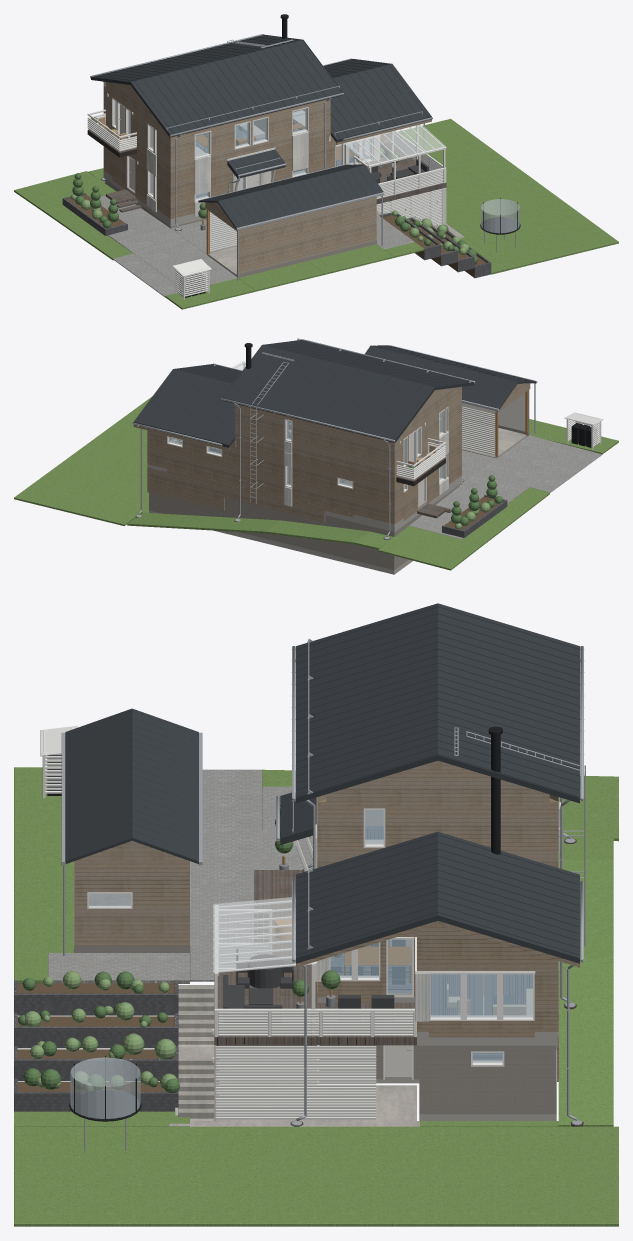
The model's file is marmorikatu-house.glb.
3 views of the same model, one above another, from view 1: azimuth 30°, elevation 25°; view 2: azimuth 150°, elevation 25°; view 3: azimuth 270°, elevation 25° (orthographic). The views are drawn at different scales.
Visible parts, largest first — view 1: T.lawnFar, R.main.s, TR.wW.seg0, R.wing.s, TR.roof.w, R.main.n, T.perg.canopy, TR.pave.drive, T.lawnN.a, T.lawnN.b, T.lawnS2, T.lawnS1 (+33 smaller); view 2: R.main.n, T.lawnFar, R.wing.n, F2.wN.seg0, K.wN.seg0, TR.pave.drive, R.main.s, T.lawnN.a, TR.roof.e, F1.wN.blk.seg2, F1.wN.blk.seg1, T.lawnE.slab2 (+33 smaller); view 3: T.lawnFar, R.main.s, R.main.n, R.wing.s, R.wing.n, TR.roof.e, TR.roof.w, T.lawnE.slab2, TR.pave.court, F2.wE.seg1, T.perg.canopy, R.gable.e (+50 smaller).
Part boxes in pixels (bbox=[...]): T.lawnFar: bbox=[398, 119, 618, 270]; R.main.s: bbox=[130, 40, 342, 137]; TR.wW.seg0: bbox=[237, 197, 376, 273]; R.wing.s: bbox=[330, 64, 431, 142]; TR.roof.w: bbox=[218, 165, 382, 228]; R.main.n: bbox=[91, 35, 301, 84]; T.perg.canopy: bbox=[344, 124, 446, 166]; TR.pave.drive: bbox=[134, 239, 237, 285]; T.lawnN.a: bbox=[14, 171, 116, 212]; T.lawnN.b: bbox=[45, 206, 132, 260]; T.lawnS2: bbox=[307, 244, 393, 274]; T.lawnS1: bbox=[238, 261, 323, 291]; R.main.n: bbox=[222, 345, 434, 442]; T.lawnFar: bbox=[14, 396, 171, 525]; R.wing.n: bbox=[133, 369, 234, 447]; F2.wN.seg0: bbox=[292, 418, 394, 478]; K.wN.seg0: bbox=[223, 497, 394, 569]; TR.pave.drive: bbox=[477, 435, 581, 486]; R.main.s: bbox=[263, 340, 474, 390]; T.lawnN.a: bbox=[378, 525, 481, 570]; TR.roof.e: bbox=[365, 346, 517, 409]; F1.wN.blk.seg2: bbox=[235, 440, 284, 497]; F1.wN.blk.seg1: bbox=[292, 453, 337, 510]; T.lawnE.slab2: bbox=[127, 512, 280, 533]; T.lawnFar: bbox=[14, 1126, 618, 1226]; R.main.s: bbox=[296, 603, 437, 803]; R.main.n: bbox=[438, 603, 579, 803]; R.wing.s: bbox=[296, 831, 437, 963]; R.wing.n: bbox=[438, 831, 579, 963]; TR.roof.e: bbox=[132, 708, 198, 863]; TR.roof.w: bbox=[65, 708, 131, 863]; T.lawnE.slab2: bbox=[558, 957, 613, 1126]; TR.pave.court: bbox=[190, 831, 312, 981]; F2.wE.seg1: bbox=[385, 798, 558, 867]; T.perg.canopy: bbox=[213, 897, 317, 972]; R.gable.e: bbox=[326, 760, 549, 801].
Size of the model in its own units: 30.01 by 11.91 by 19.99.
90 materials, 13 textured.
